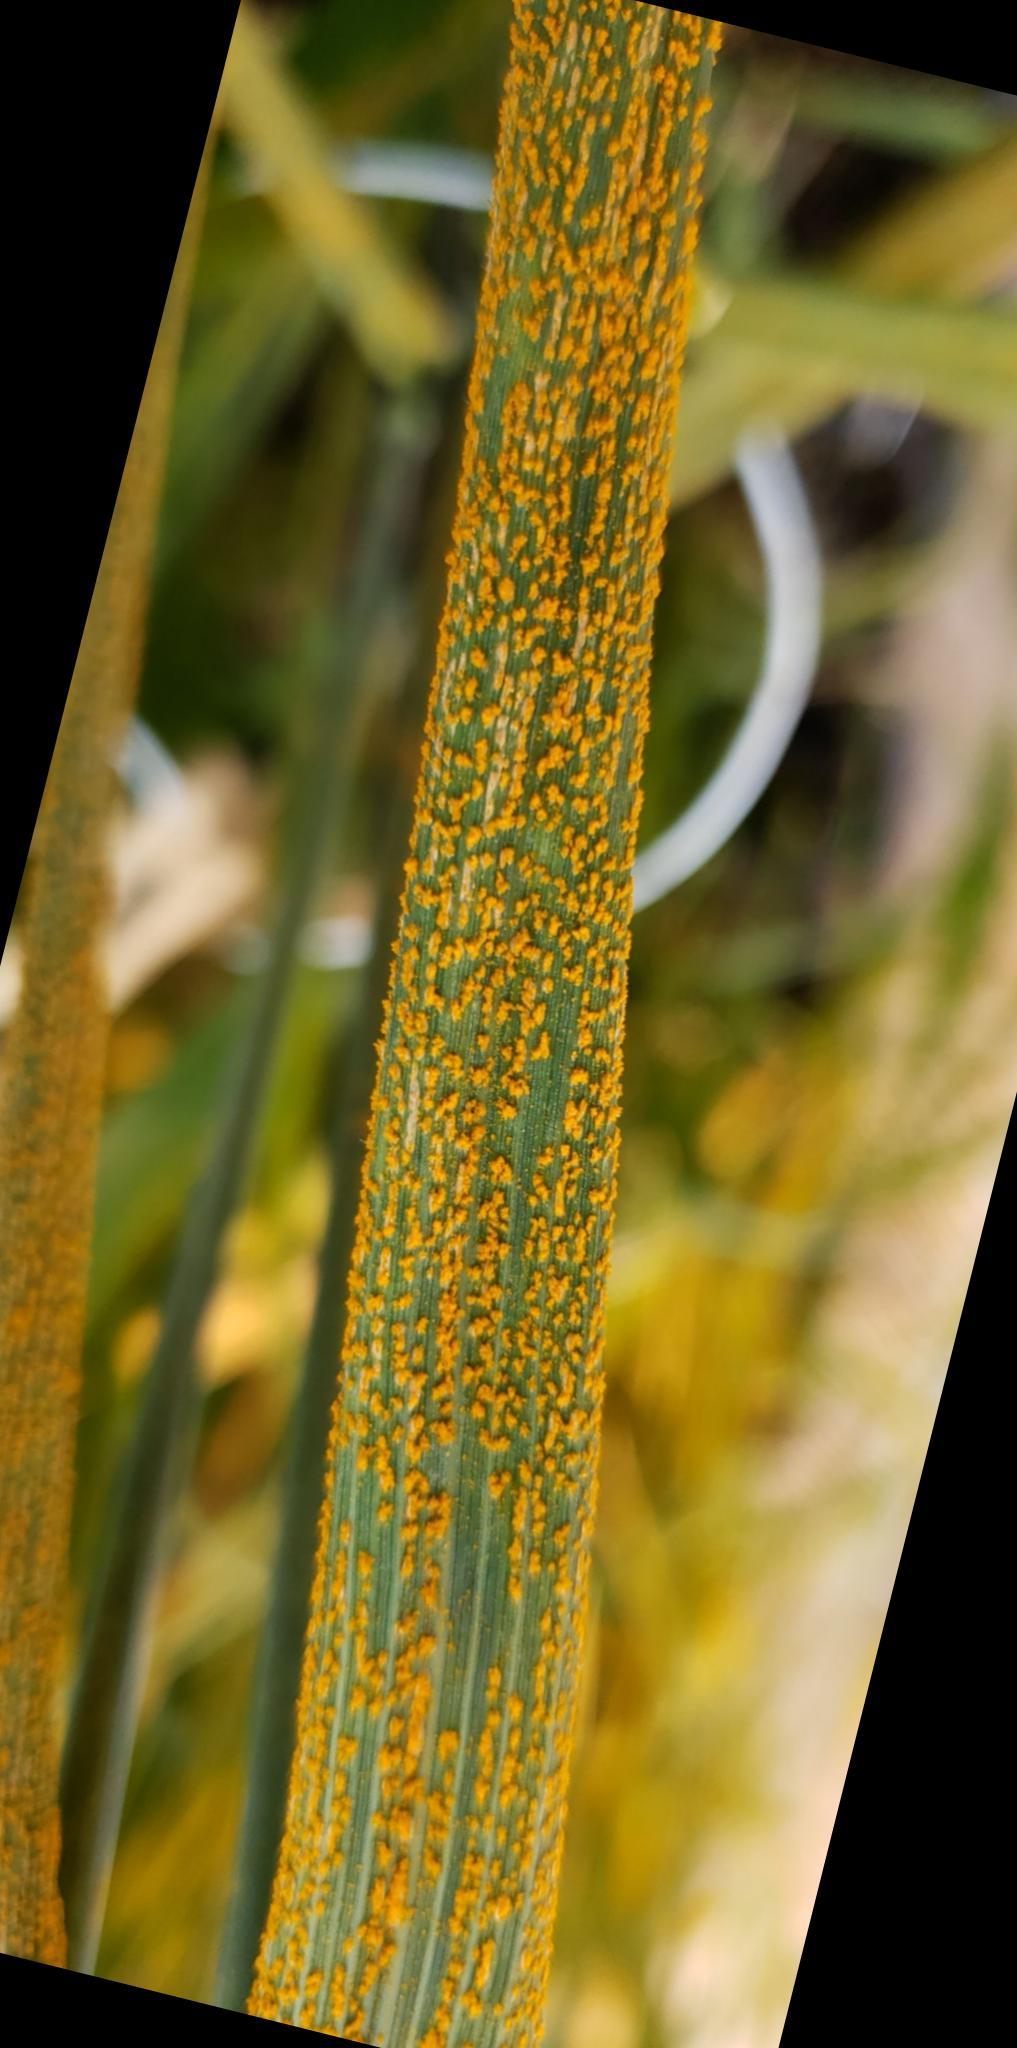Wheat: (261, 1612, 604, 2028), (324, 1136, 614, 1584), (384, 748, 624, 1126), (493, 9, 708, 432), (433, 469, 659, 717)
